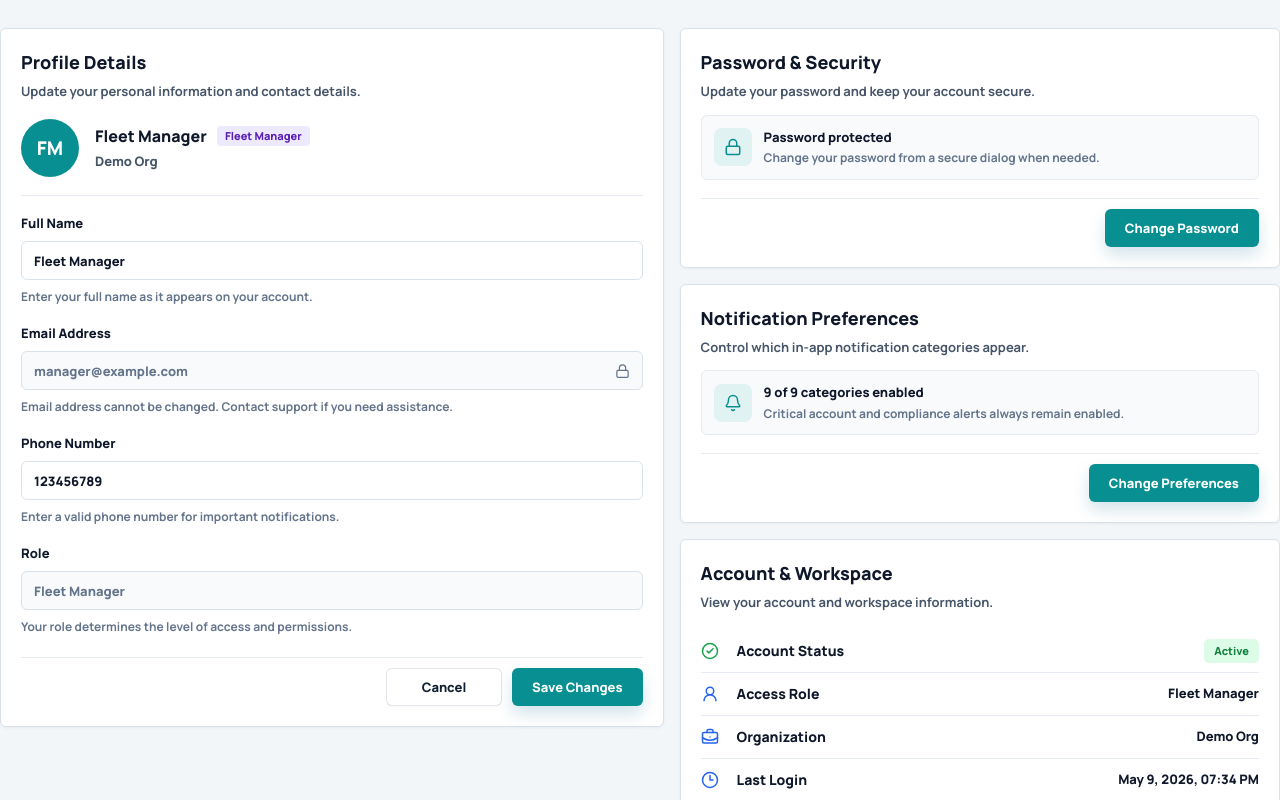
it: ProfileSettings page › keeps the password modal open and marks current password when the server rejects it
The width and height of the screenshot is (1280, 800).
Click the button "Change Password": x=1182, y=228 left=1105, top=208, right=1259, bottom=246
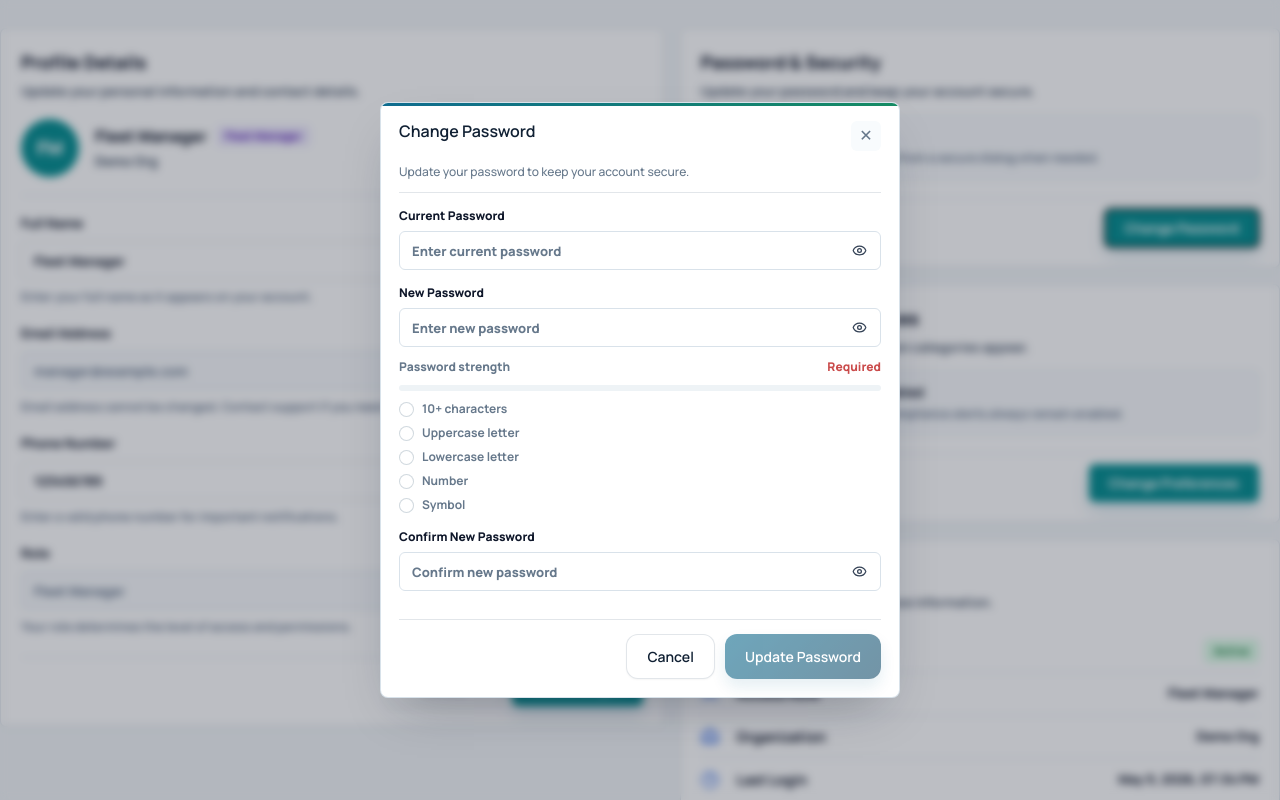
In the password field with placeholder "Enter current password": x=640, y=251 left=399, top=231, right=881, bottom=270, type "WrongPass1!"
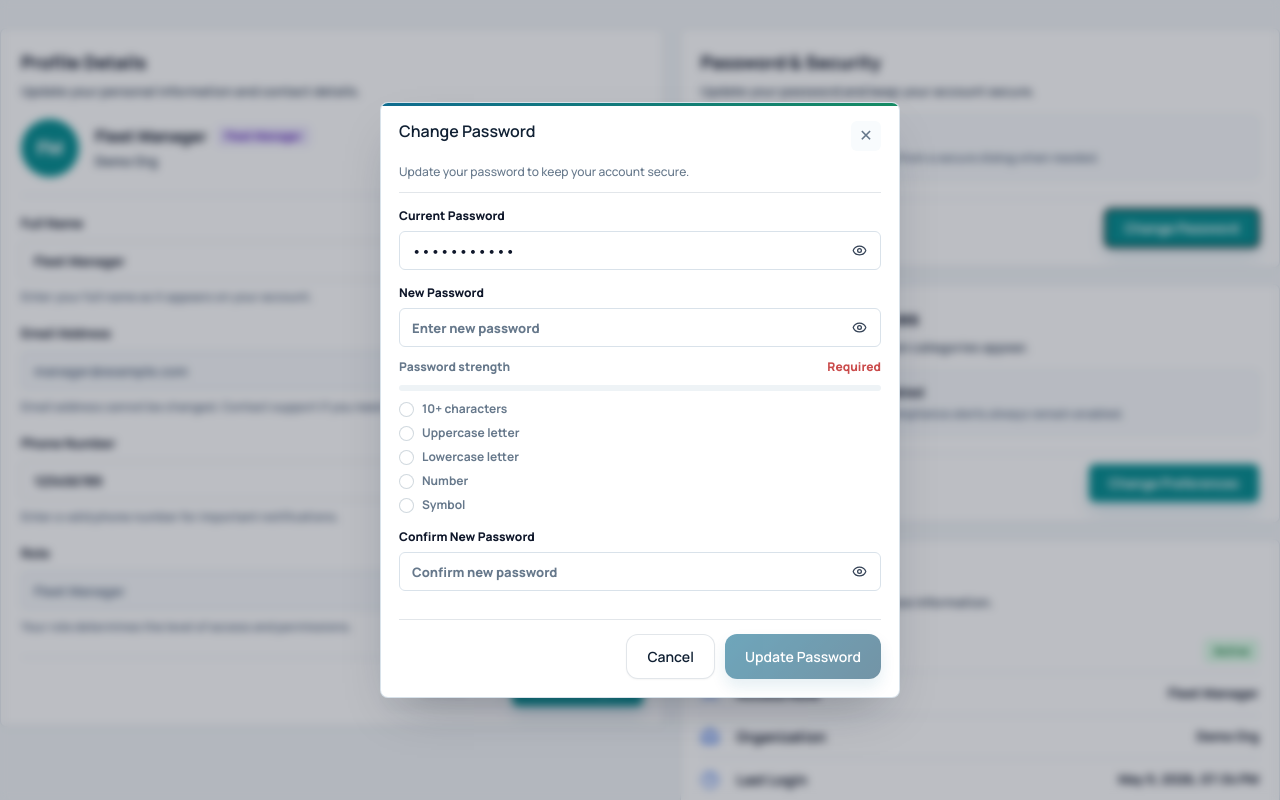
In the password field with placeholder "Enter new password": x=640, y=328 left=399, top=308, right=881, bottom=347, type "RoadOps#2026"
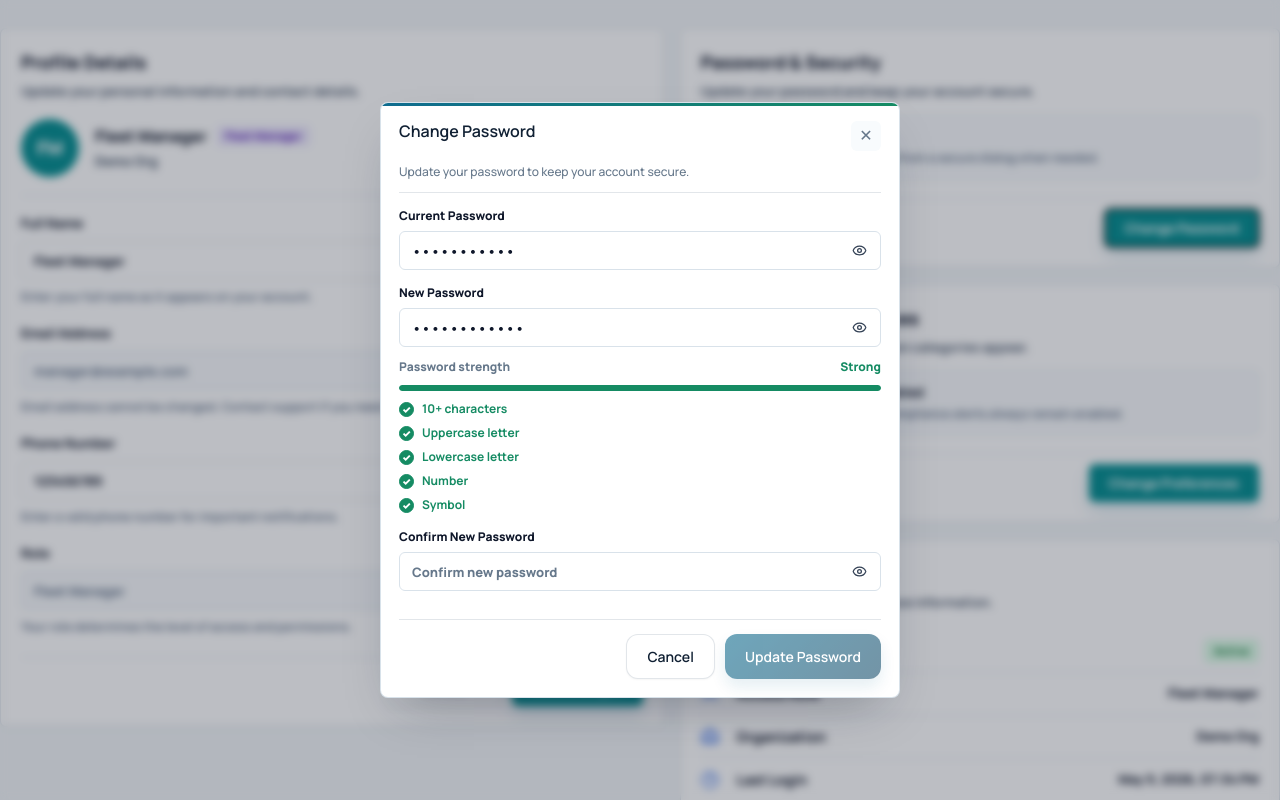
In the password field with placeholder "Confirm New Password": x=640, y=572 left=399, top=552, right=881, bottom=591, type "RoadOps#2026"
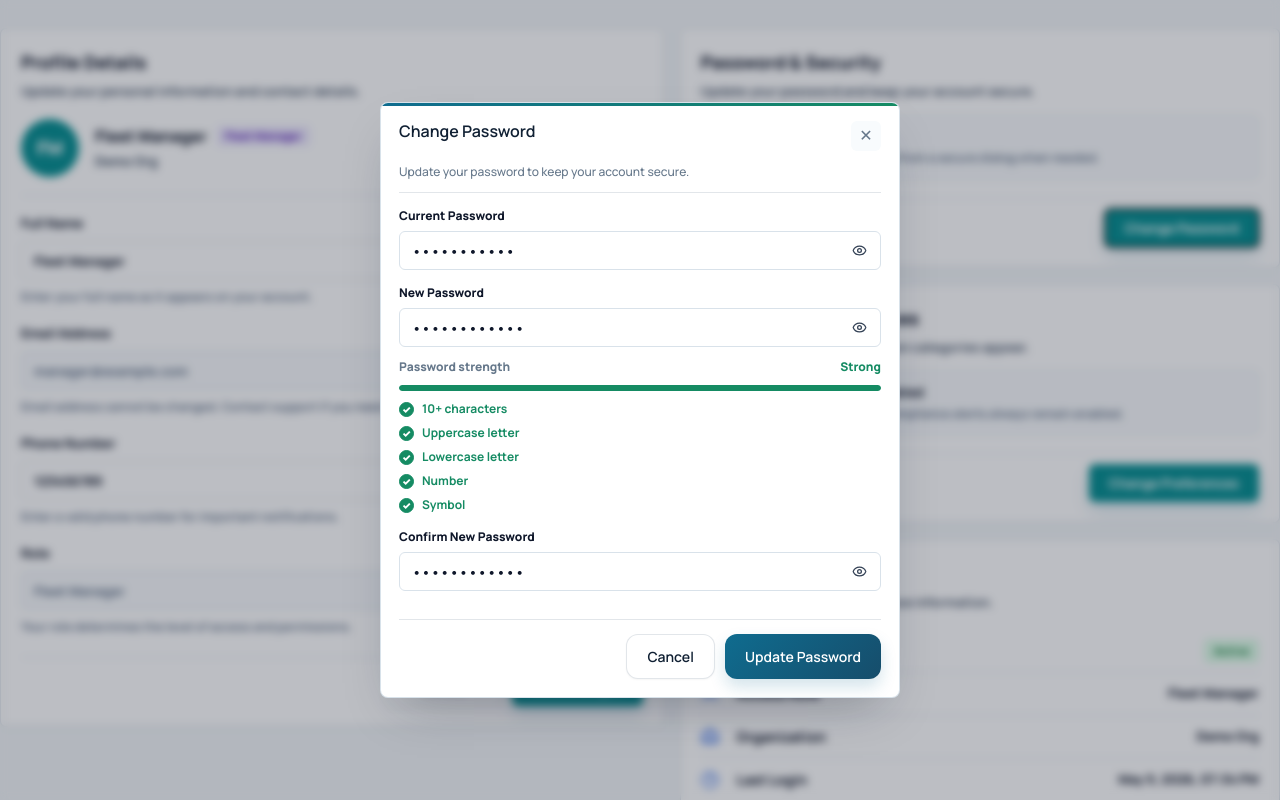
Click the button "Update Password": x=803, y=657 left=725, top=634, right=881, bottom=679
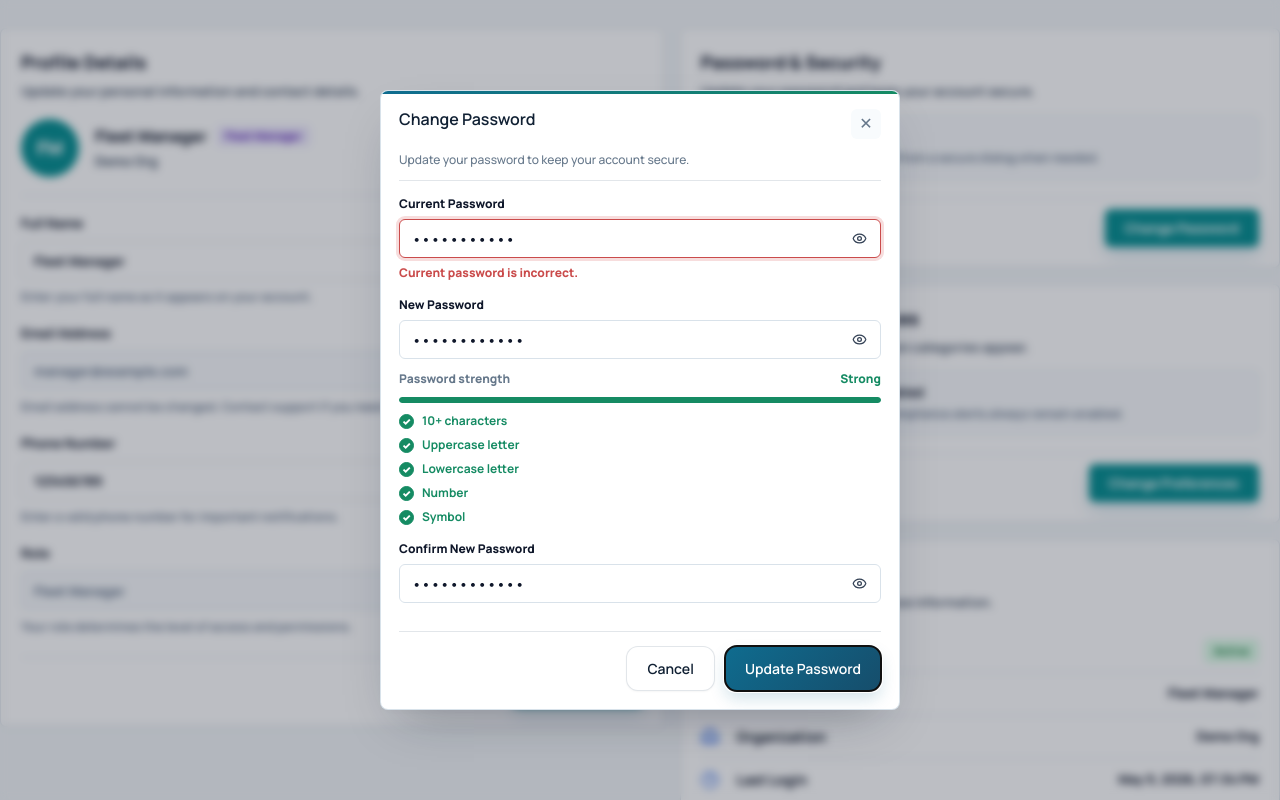
Expected: the dialog "Change Password" is shown, left=380, top=90, right=900, bottom=710
Expected: the text "Current password is incorrect." is shown, left=399, top=264, right=578, bottom=281
